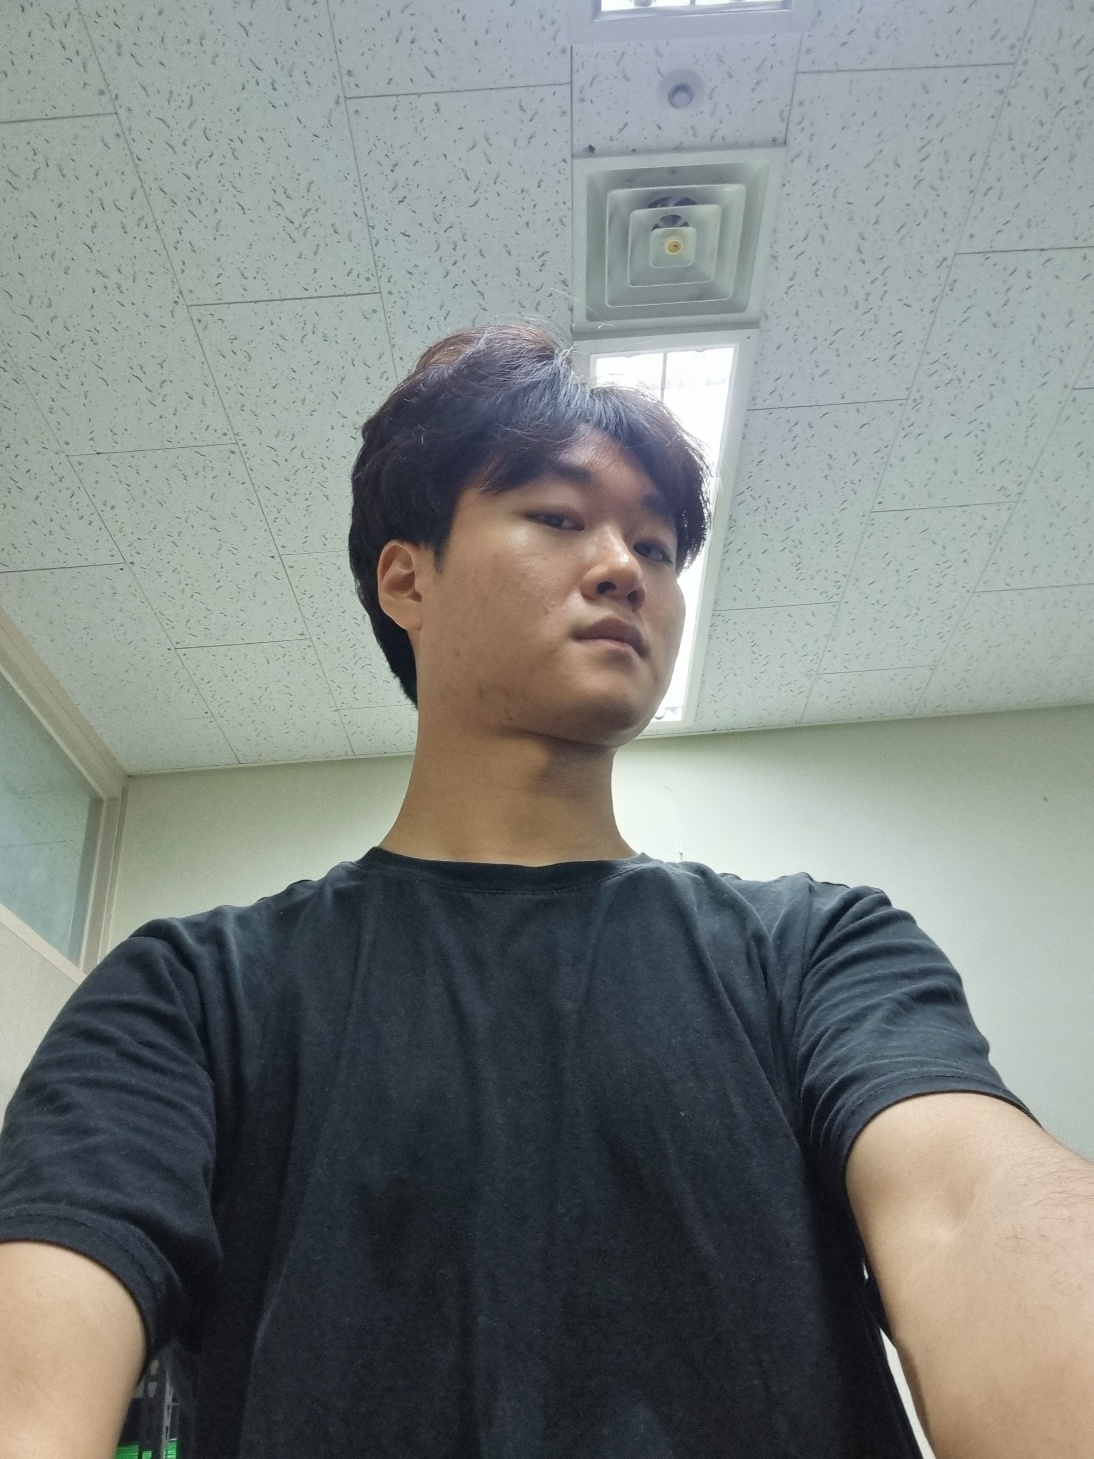Non-Helmet: (296, 291, 750, 781)
